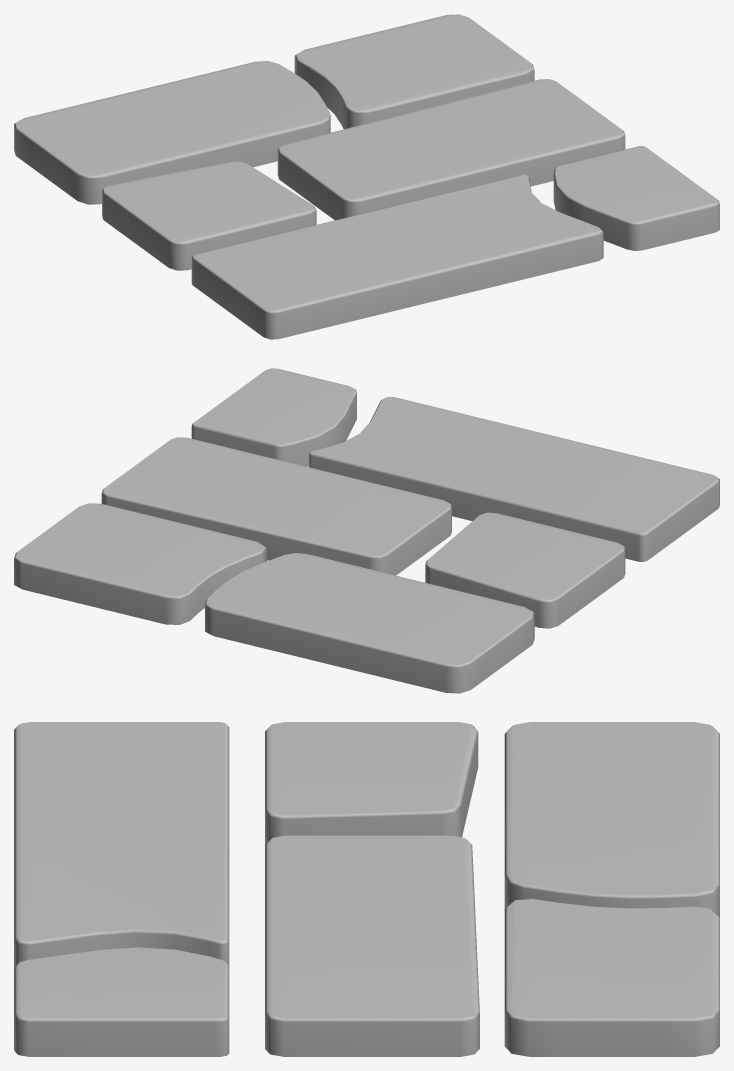
File: Town_11_Path_1.glb
3 views of the same model, one above another, from view 1: azimuth 30°, elevation 25°; view 2: azimuth 150°, elevation 25°; view 3: azimuth 270°, elevation 25° (orthographic). The views are drawn at different scales.
Parts seen in each view (by area): view 1: Town_11_Path_1; view 2: Town_11_Path_1; view 3: Town_11_Path_1.
Part boxes in pixels (x1=…): Town_11_Path_1: x1=14, y1=14, x2=719, y2=339; Town_11_Path_1: x1=14, y1=368, x2=719, y2=693; Town_11_Path_1: x1=14, y1=722, x2=719, y2=1056.
Bounding box in the file's own units: 1.94 × 0.114 × 1.94.
Materials: 1 (1 with a texture image).
